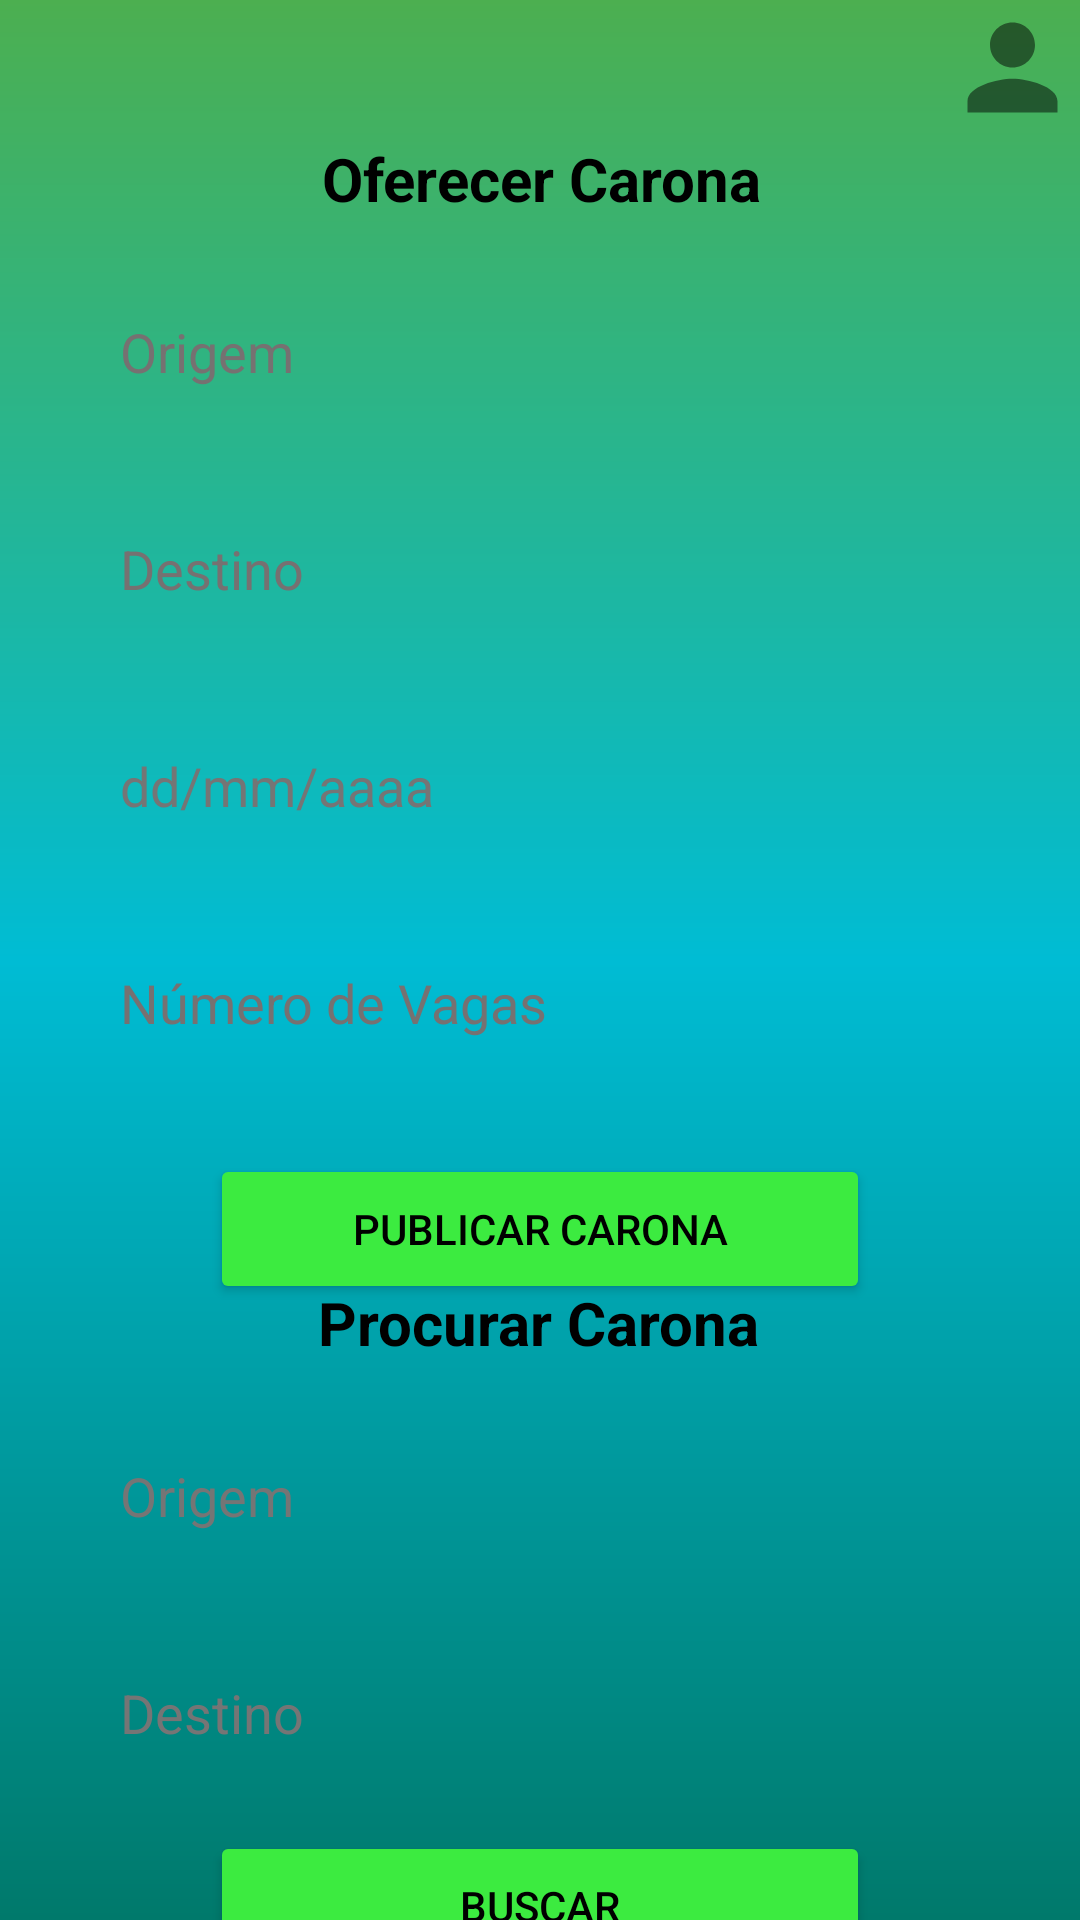

Where to tap for icons on this 1080px x 1920px app screen, as point (x, y):
user: point (1012, 67)
